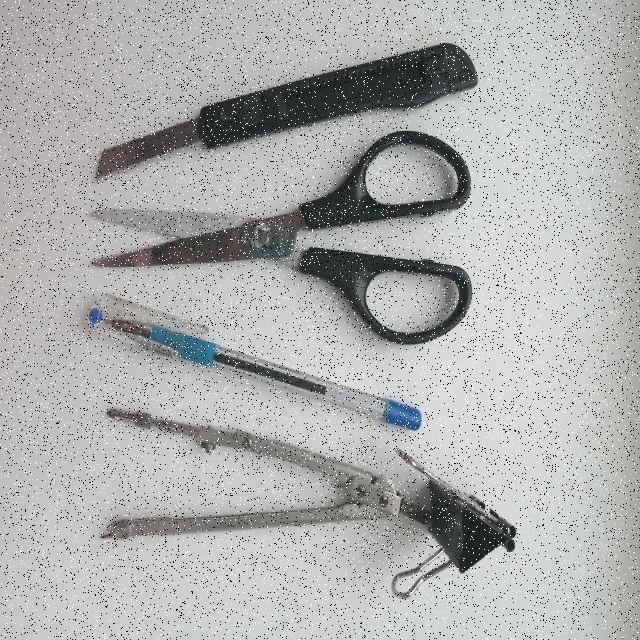scissors: (85, 114, 489, 365)
